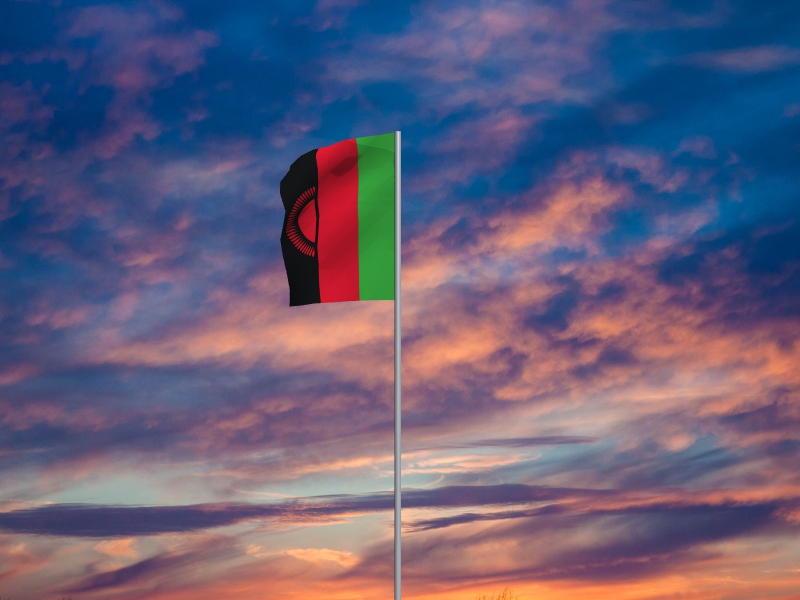mw: (279, 133, 394, 308)
